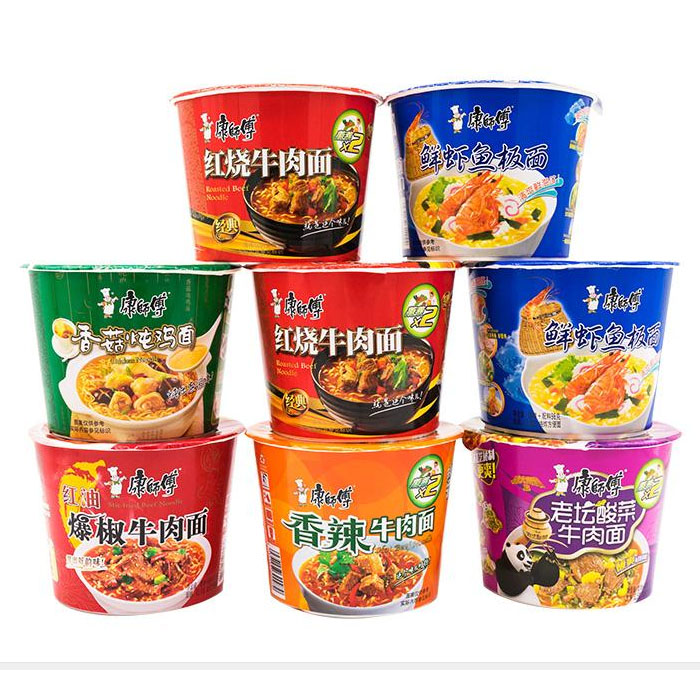xiangla: (253, 443, 457, 618)
